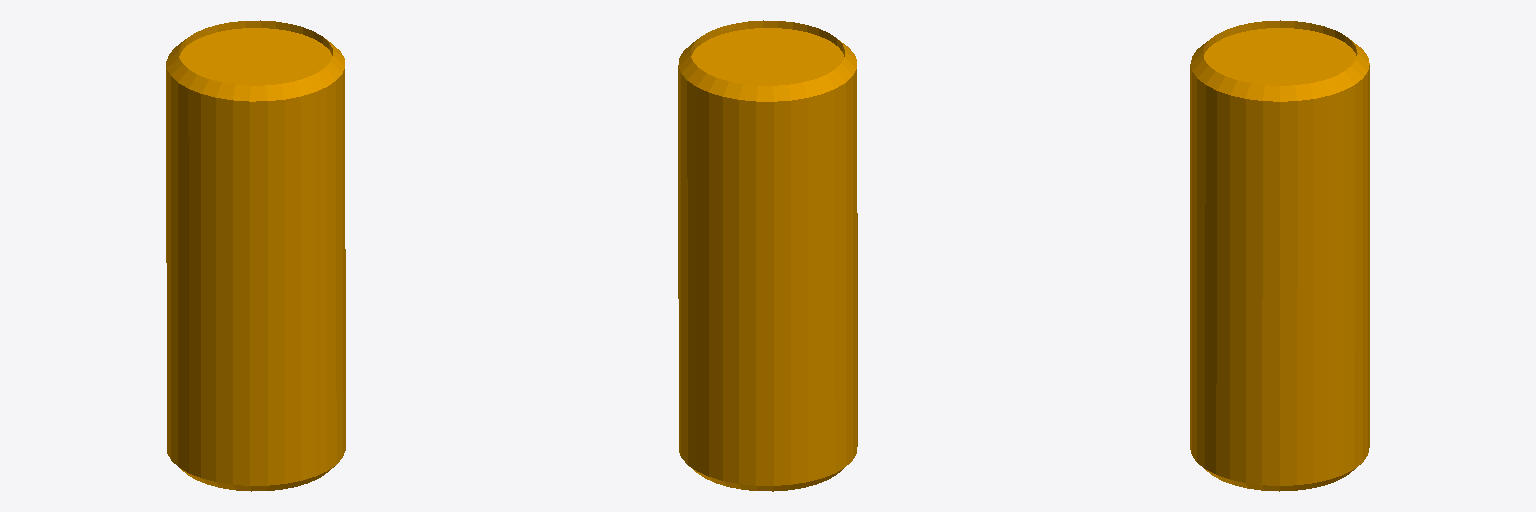
URDF robot description (apple):
<?xml version="0.0" ?>
<robot name="apple">
  <link name="baseLink">
    <contact>
      <lateral_friction value="1.0"/>
      <rolling_friction value="0.0"/>
      <contact_cfm value="0.0"/>
      <contact_erp value="1.0"/>
    </contact>
    <inertial>
      <origin rpy="1.57 0 0" xyz="0.0 0.0 0.08"/>
       <mass value=".1"/>
       <inertia ixx="1" ixy="0" ixz="0" iyy="1" iyz="0" izz="1"/>
    </inertial>
    <visual>
      <origin rpy="1.57 0 0" xyz="0 0 0.08"/>
      <geometry>
        <mesh filename="meshes/cola/cola.obj" scale="0.3 0.3 0.3" />
      </geometry>

    </visual>
    <collision>
      <origin rpy="1.57 0 0" xyz="0 0 0.08"/>
      <geometry>
	 	<mesh filename="meshes/cola/cola.obj" scale="0.3 0.3 0.3"/>
      </geometry>
    </collision>
  </link>
  <joint
    name="j"
    type="fixed">
    <origin
      xyz="-0 0 0.08"
      rpy="0 0 0" />
    <parent
      link="baseLink" />
    <child
      link="head" />
    <axis
      xyz="0 0 0" />
  </joint>
    <link name="head">
    <inertial>
      <origin rpy="0 0 0" xyz="0.0 0.0 0.0"/>
       <mass value=".0.0001"/>
       <inertia ixx="0.00001" ixy="0" ixz="0" iyy="0.00001" iyz="0" izz="0.00001"/>
    </inertial>
    <visual>
      <origin rpy="0 0 0" xyz="0 0 0"/>
      <geometry>
        <cylinder radius="0.03" length="0.002"/>
      </geometry>

    </visual>

  </link>

</robot>

--- Render facts (derived) ---
The picture shows the robot from 3 angles, left to right: view 1: azimuth 30°, elevation 25°; view 2: azimuth 150°, elevation 25°; view 3: azimuth 270°, elevation 25°; orthographic projection.
Model apple with 2 links and 1 joints (1 fixed), rooted at baseLink, posed every joint at zero.
Visible links, largest first — view 1: baseLink; view 2: baseLink; view 3: baseLink.
Link boxes in pixels (box(x1,y1,x2,y2)): baseLink: box(166, 20, 345, 491); baseLink: box(678, 20, 857, 491); baseLink: box(1190, 20, 1369, 491).
Bounding box of the posed robot: 0.066 × 0.0661 × 0.1644 m (x, y, z).
1 mesh visuals loaded from 1 distinct referenced files (1 OBJ).